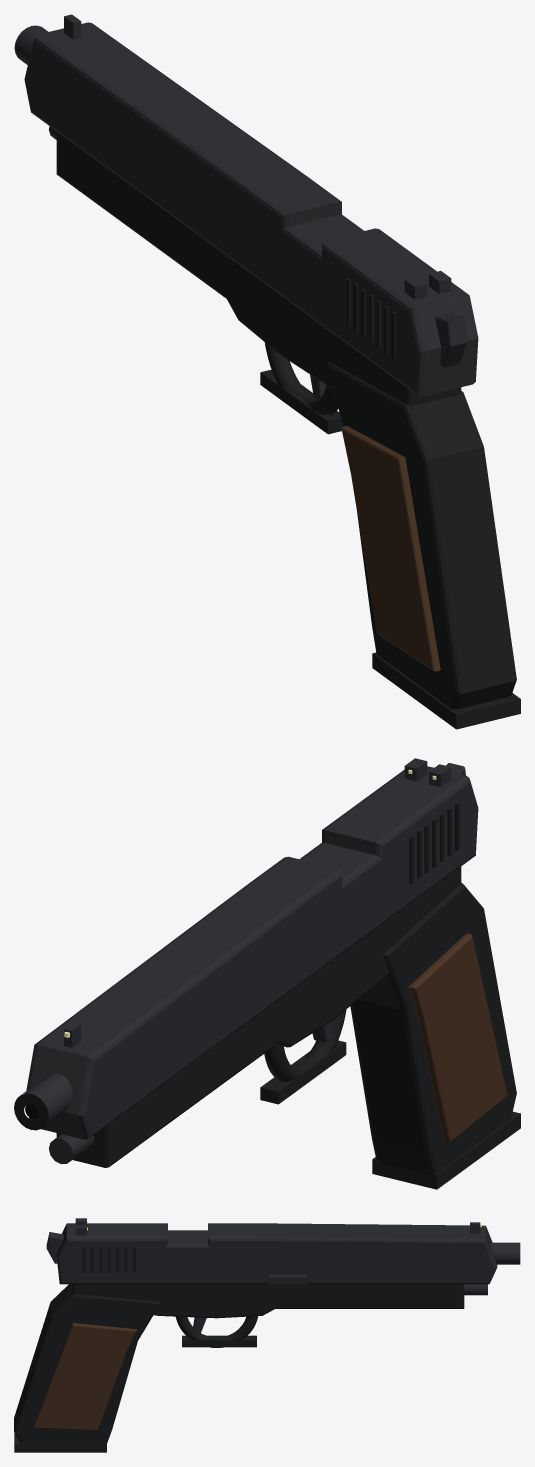
The model's file is pistolet.glb.
The picture shows the model from 3 angles, top to bottom: view 1: azimuth 30°, elevation 25°; view 2: azimuth 150°, elevation 25°; view 3: azimuth 270°, elevation 25°; orthographic projection. The views are drawn at different scales.
Visible parts, largest first — view 1: culasse, poignee, carcasse, plaquette_g, talon_chargeur, pontet, pontet_bas, chien; view 2: culasse, poignee, carcasse, plaquette_g, talon_chargeur, pontet_bas, pontet, canon, guide_ressort, bouche; view 3: culasse, carcasse, poignee, plaquette_d, talon_chargeur, pontet, pontet_bas, canon, arretoir, chien, guide_ressort.
Boxes of the visible parts, box(x1,y1,x2,y2) form: culasse: box(24, 22, 478, 396); poignee: box(327, 361, 516, 709); carcasse: box(56, 131, 461, 405); plaquette_g: box(341, 426, 440, 671); talon_chargeur: box(372, 652, 520, 729); pontet: box(264, 342, 338, 414); pontet_bas: box(260, 369, 342, 434); chien: box(435, 312, 467, 367); culasse: box(26, 766, 478, 1139); poignee: box(350, 883, 516, 1174); carcasse: box(56, 866, 461, 1167); plaquette_g: box(408, 933, 507, 1142); talon_chargeur: box(372, 1111, 520, 1189); pontet_bas: box(260, 1040, 346, 1104); pontet: box(264, 1009, 346, 1081); canon: box(22, 1073, 72, 1126); guide_ressort: box(49, 1134, 94, 1164); bouche: box(14, 1093, 48, 1130); culasse: box(56, 1223, 497, 1284); carcasse: box(72, 1284, 464, 1318); poignee: box(14, 1284, 160, 1443); plaquette_d: box(33, 1323, 136, 1430); talon_chargeur: box(14, 1433, 106, 1452); pontet: box(176, 1316, 257, 1347); pontet_bas: box(182, 1335, 256, 1347); canon: box(490, 1242, 520, 1264); arretoir: box(268, 1274, 307, 1284); chien: box(46, 1232, 63, 1263); guide_ressort: box(464, 1284, 487, 1295).
Size of the model in its own units: 0.038 by 0.1885 by 0.3926.
